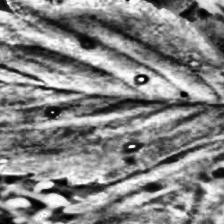Leaf Spot: (0, 0, 224, 187), (62, 110, 224, 224)
